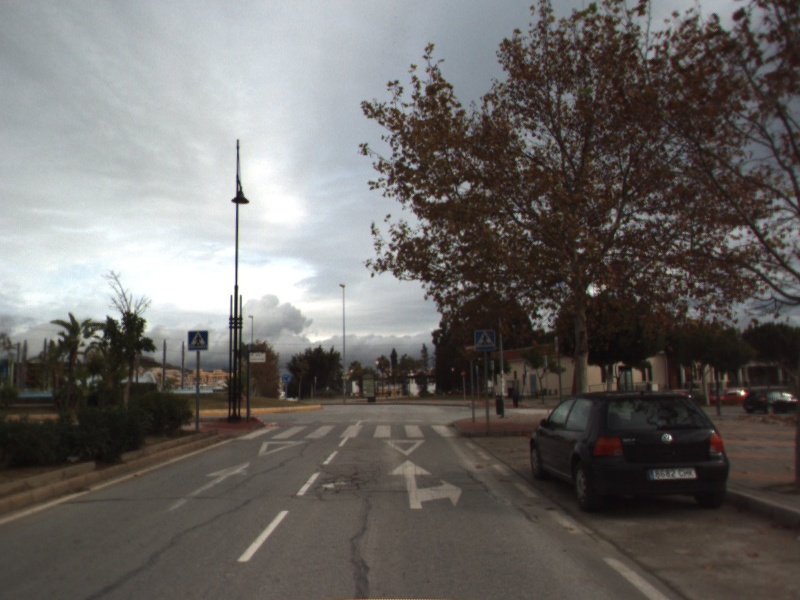STRAIGHT: (161, 459, 252, 514)
STRAIGHT_RIGHT: (385, 458, 464, 511)
